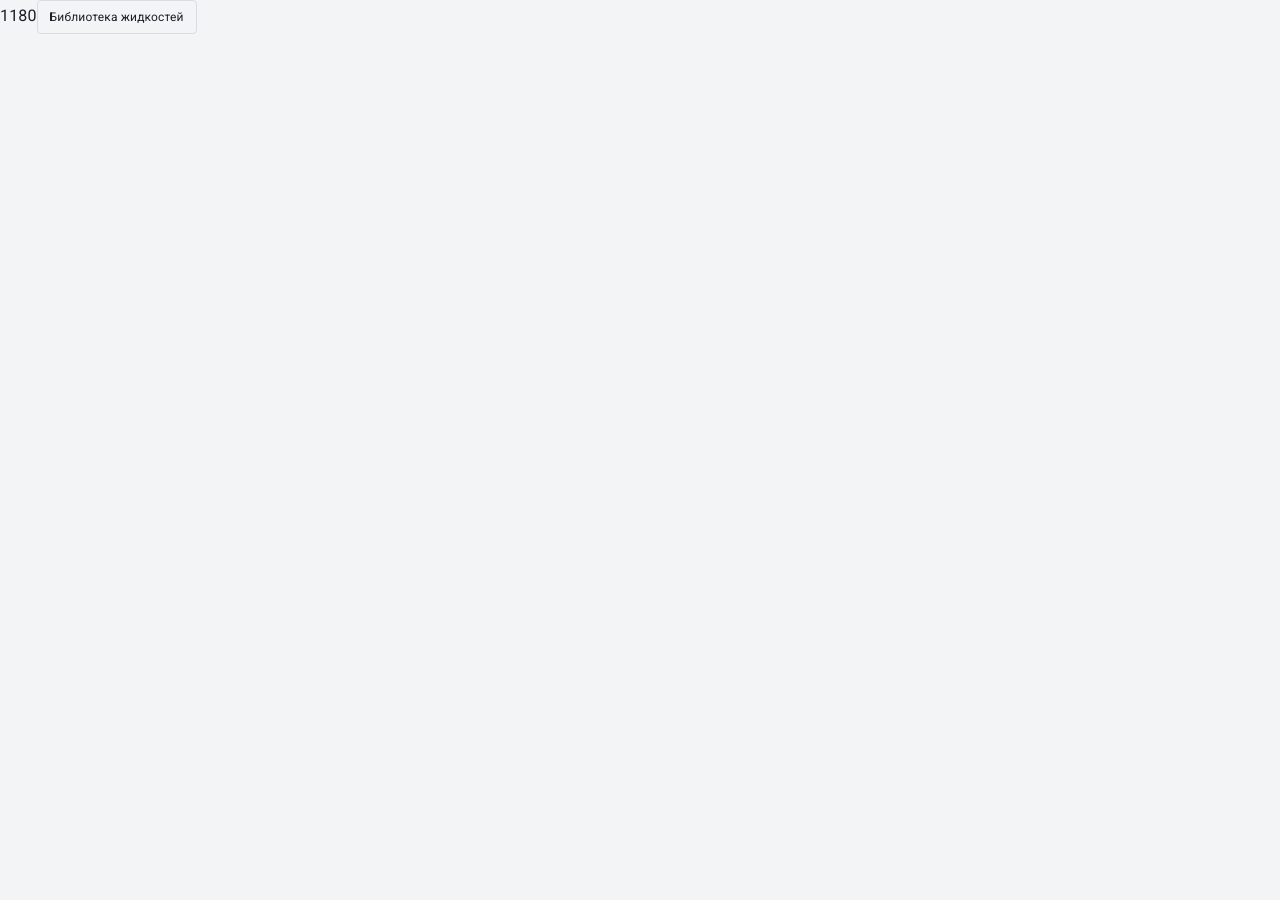
Test: does not overwrite a concurrent library edit
The image size is (1280, 900).
Click the button "Библиотека жидкостей" at (117, 17), box [37,0,197,34]
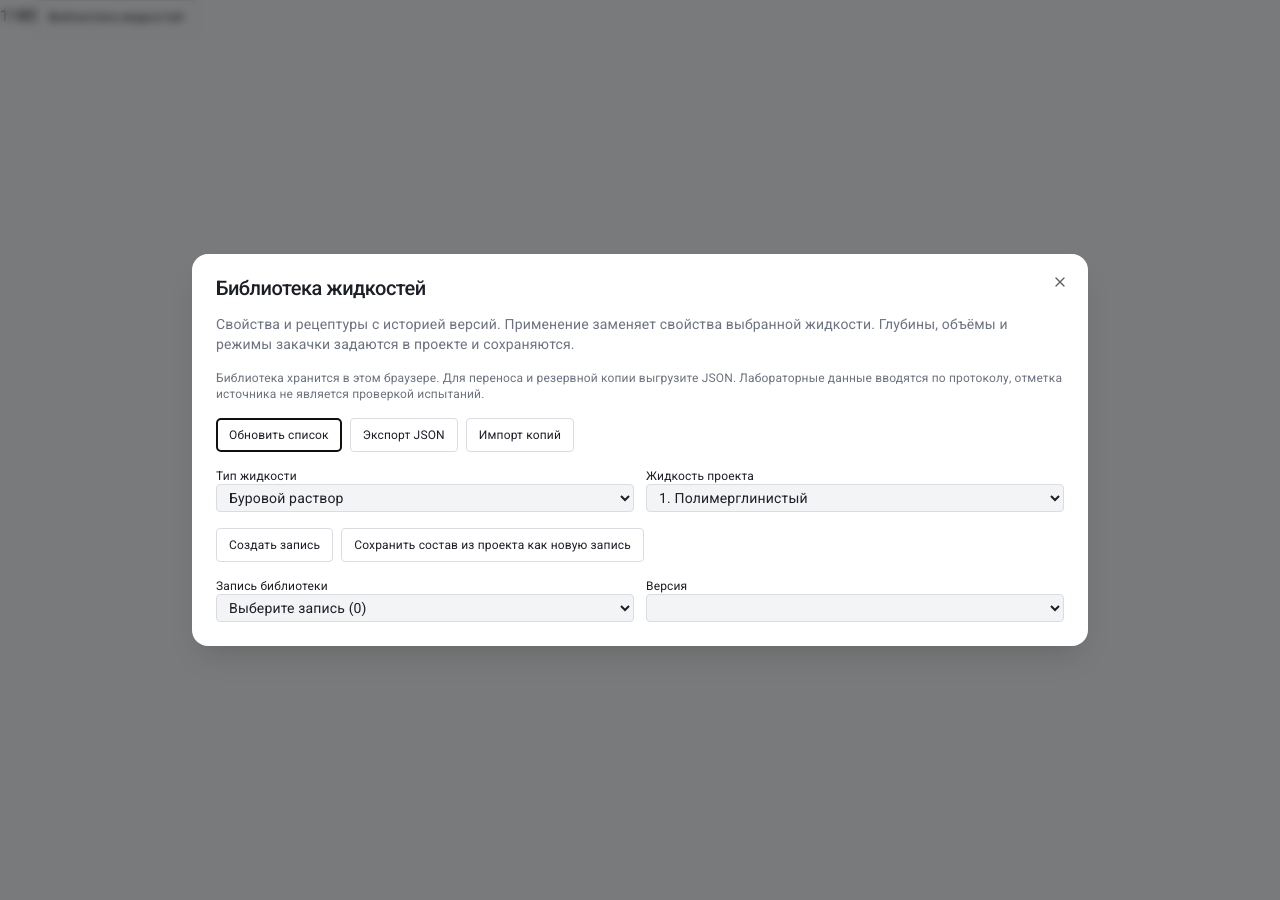
Click the button "Сохранить состав из проекта как новую запись" at (493, 545), box [341,528,644,562]
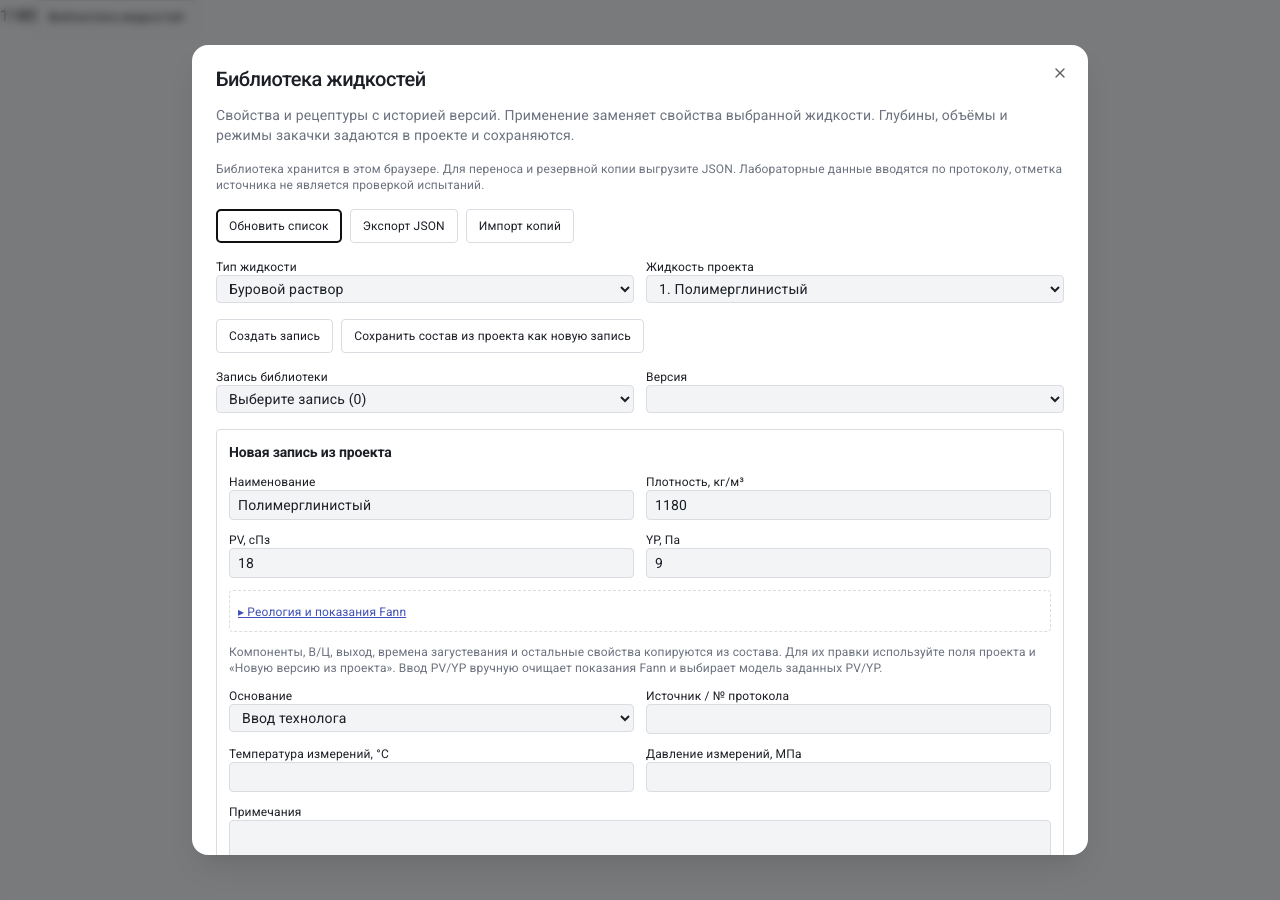
Type "Источник" into the field named "Источник свойств" at (848, 719), box [646,704,1051,734]
(page scrolled)
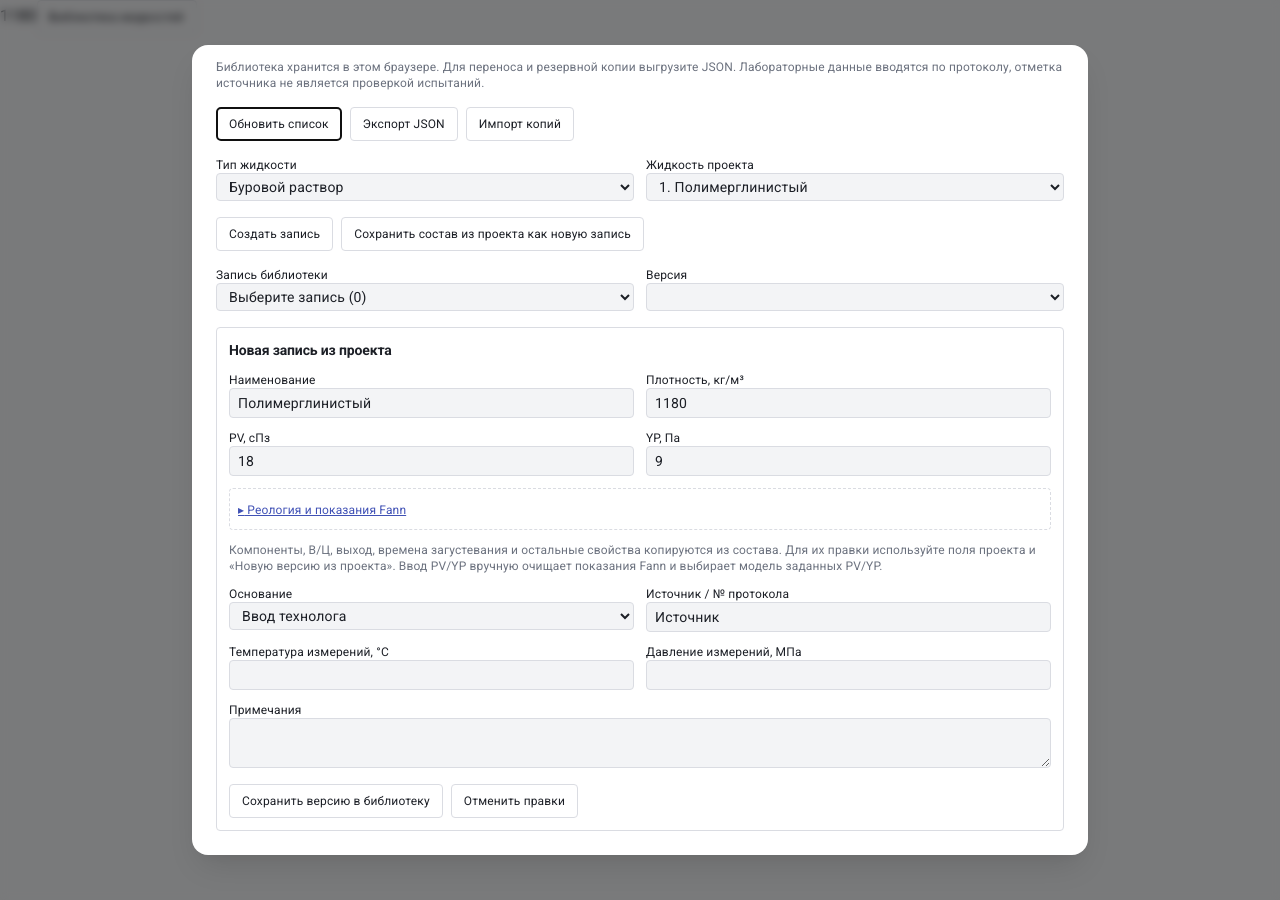
Click the button "Сохранить версию в библиотеку" at (336, 801), box [229,784,443,818]
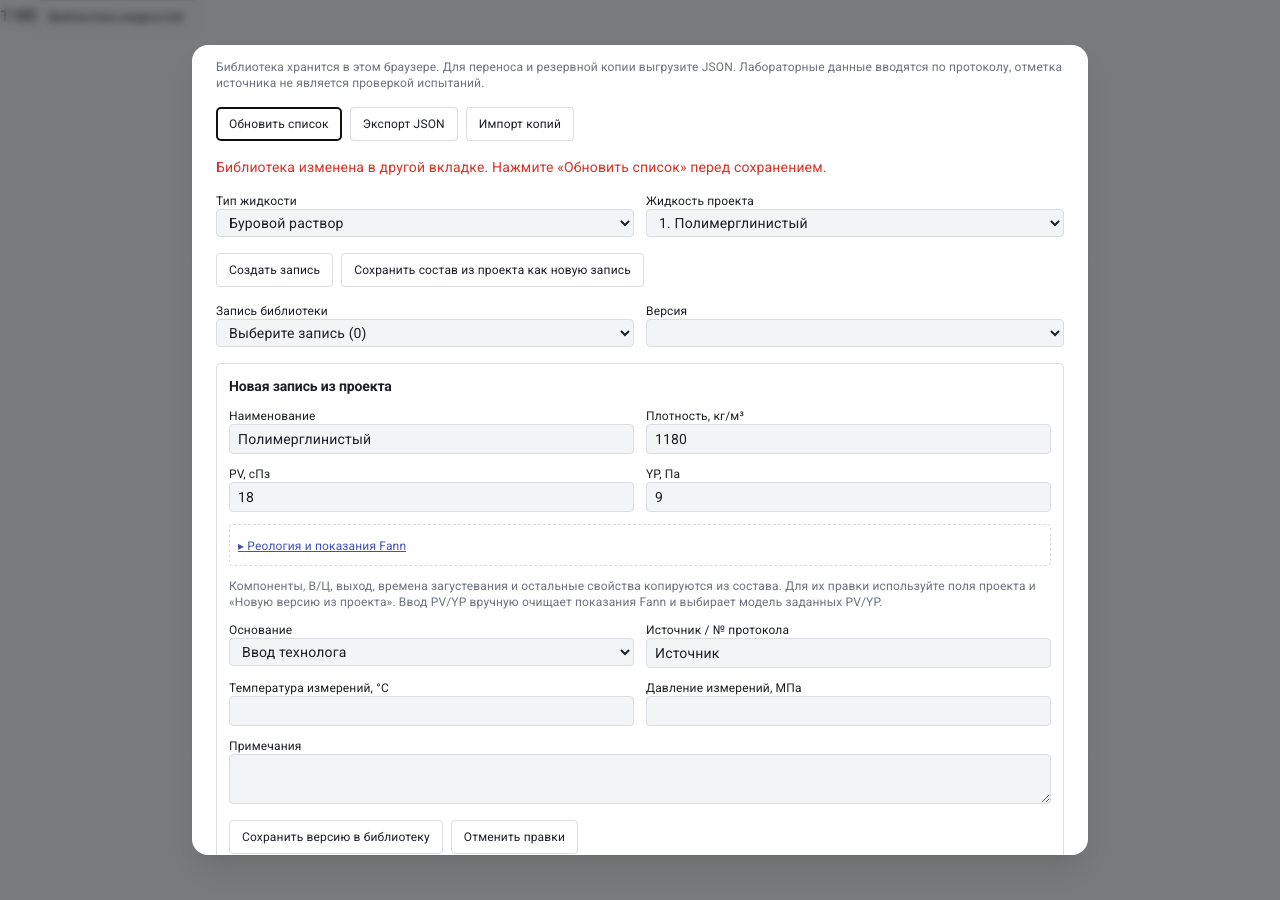
Result: the message shows "другой вкладке" at [216,159,827,175]
